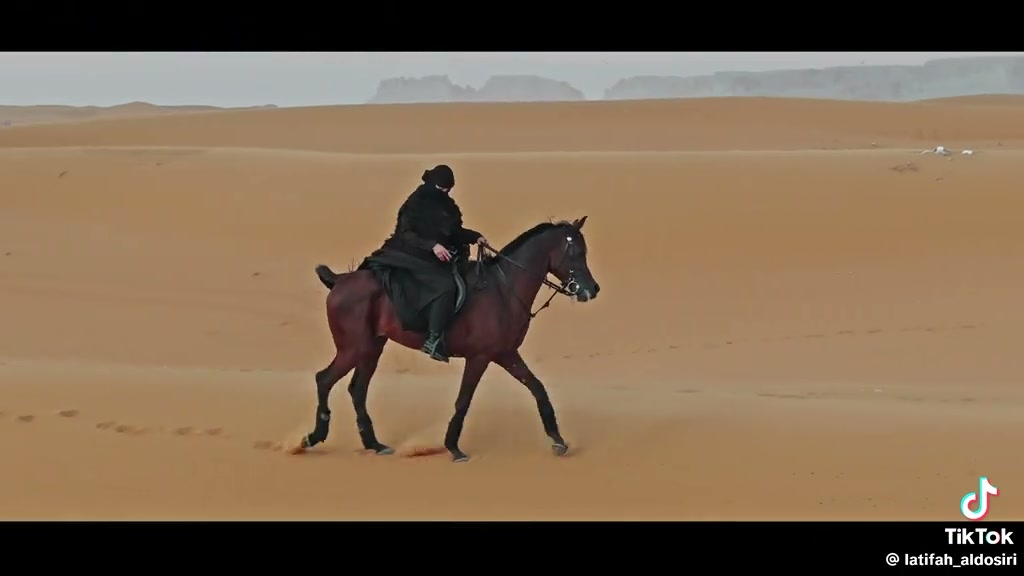animal_foot_print: (753, 322, 978, 342), (92, 420, 232, 438)
